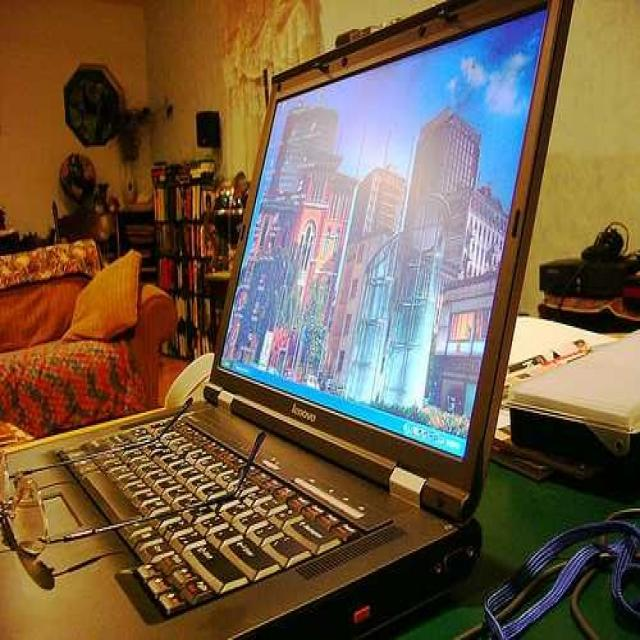laptop: (92, 72, 466, 637)
